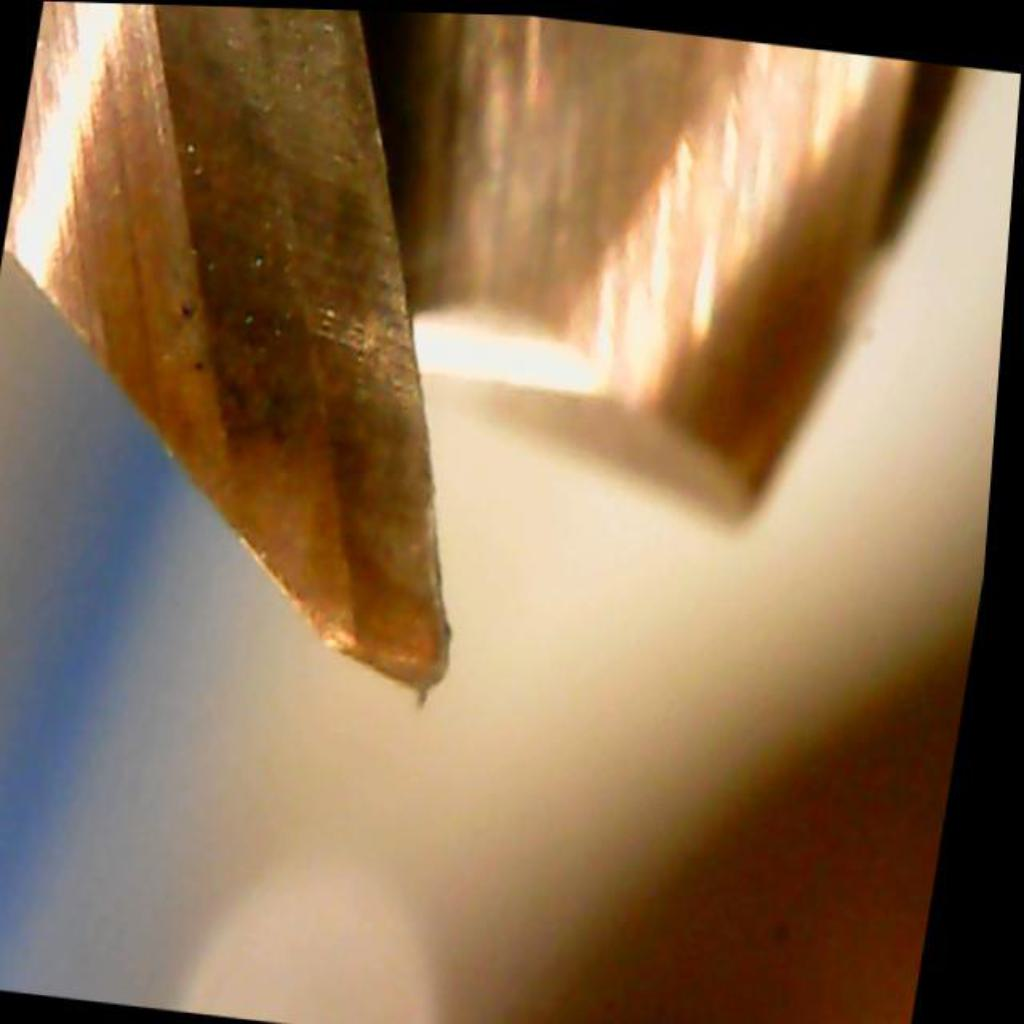Tool-wear-class-0: (255, 340, 517, 714)
